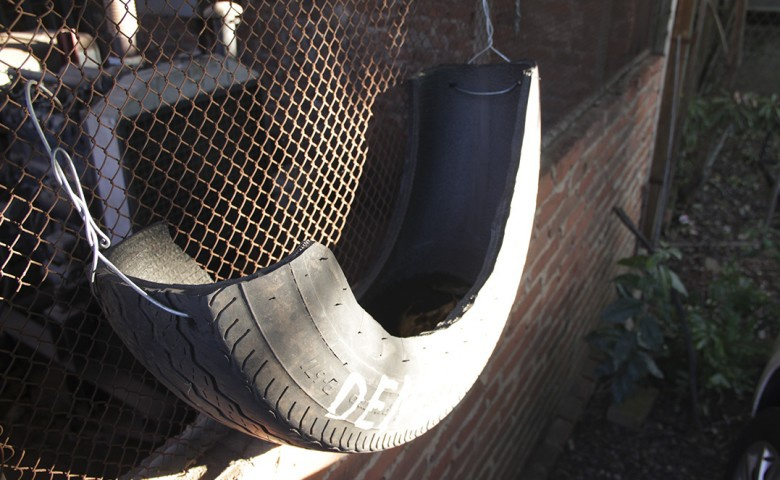tire: (116, 49, 547, 455)
